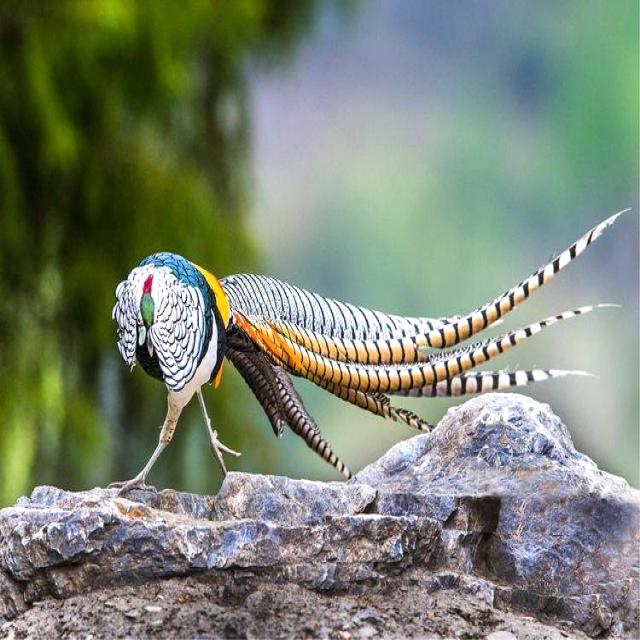Chrysolophus amherstiae: (216, 233, 595, 466)
